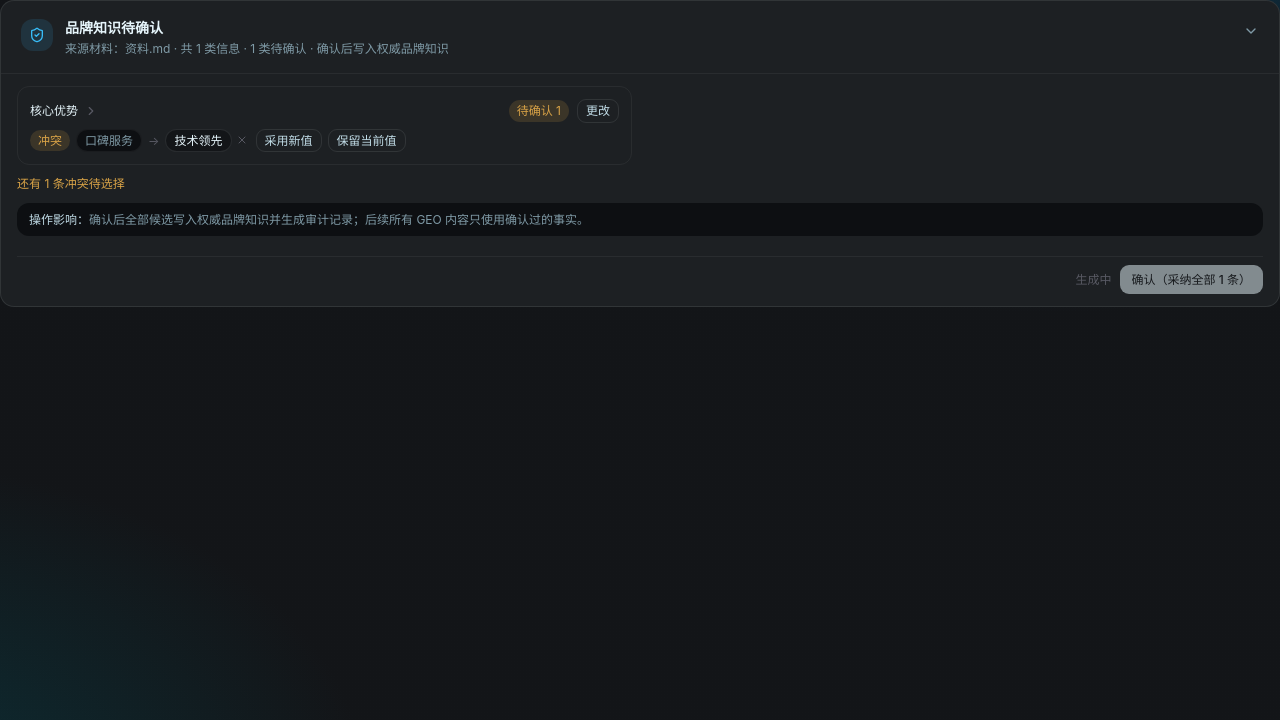
KnowledgeBatchCard（字段行复核卡） › 冲突行必须内联二选一，未解决前整卡确认禁用
Check: the button "确认（采纳全部 1 条）" is disabled, box [1120, 265, 1263, 294]
Check: the text "还有 1 条冲突待选择" is shown, box [17, 176, 125, 191]
Click the button with aria-label "采用新值：核心优势" at (288, 140), box [256, 129, 322, 152]
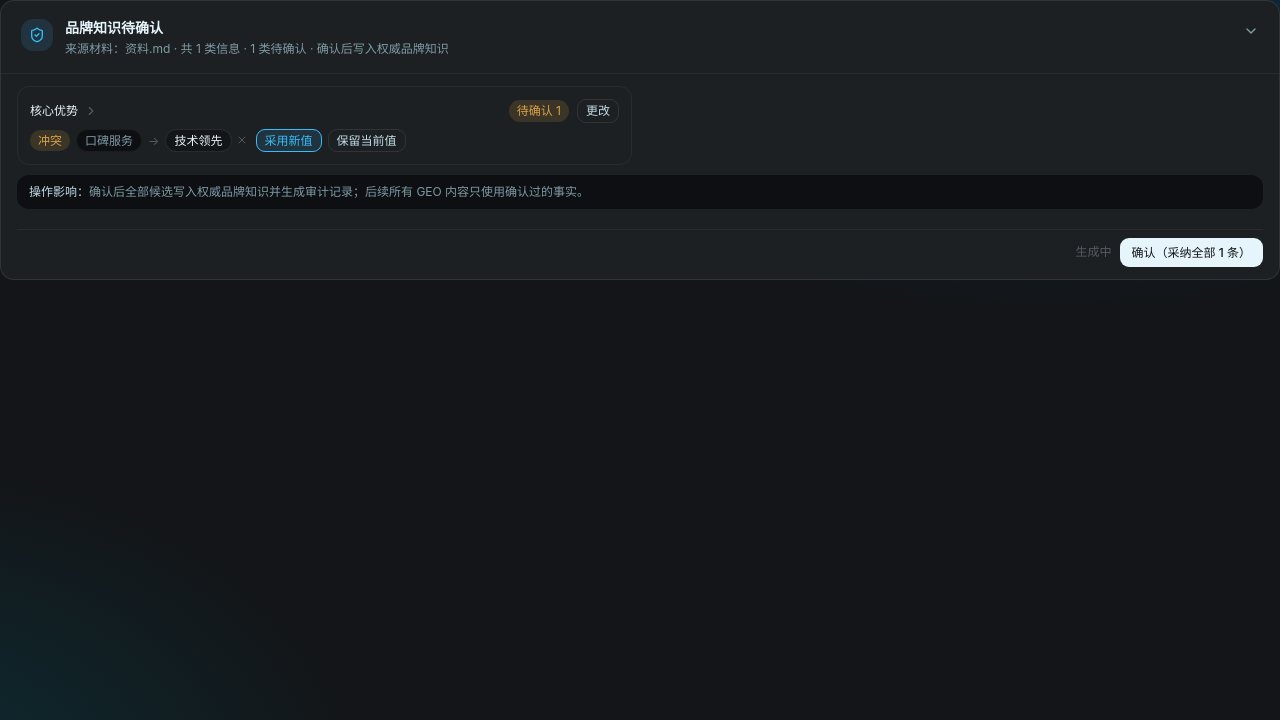
Check: the text "当前权威值" is not shown
Check: the button "确认（采纳全部 1 条）" is enabled, box [1120, 238, 1263, 267]
Check: the text "还有 1 条冲突待选择" is gone
Click the button "核心优势" at (54, 111), box [30, 102, 501, 120]
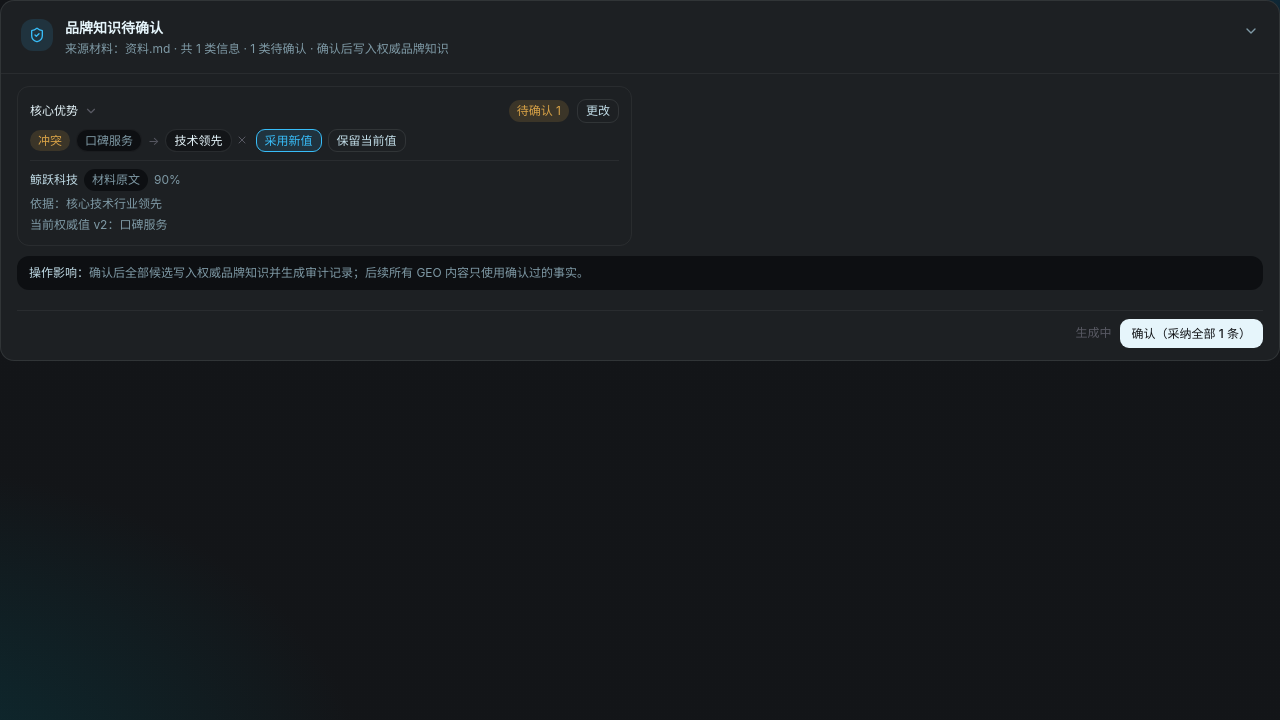
Check: the text "当前权威值 v2：口碑服务" is shown, box [30, 217, 168, 232]
